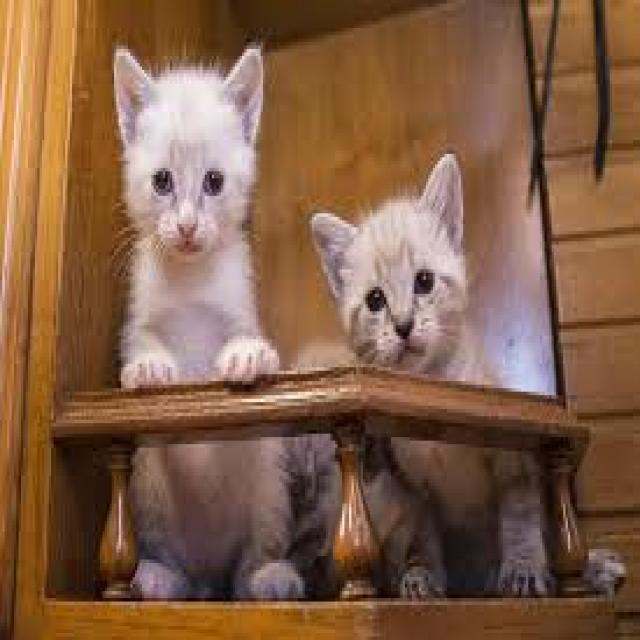Cat: (107, 39, 307, 606), (310, 148, 558, 601)
